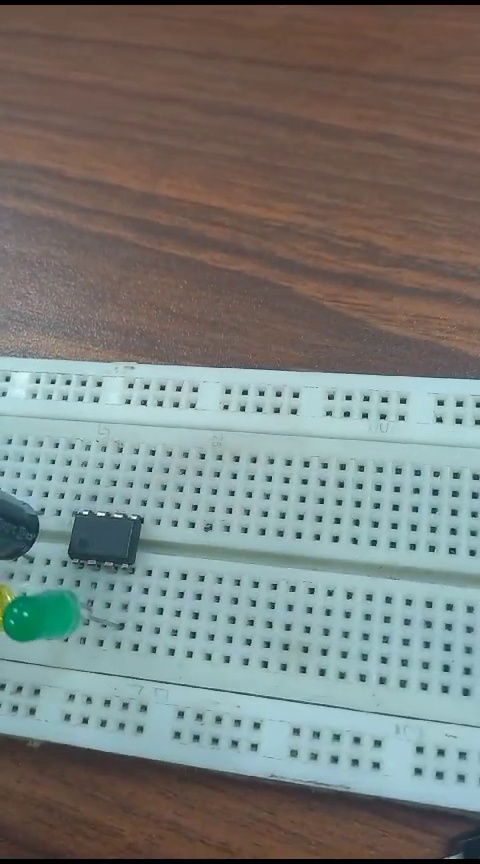IC: (74, 505, 144, 567)
LED: (11, 585, 94, 637)
capacitor: (7, 483, 40, 561)
